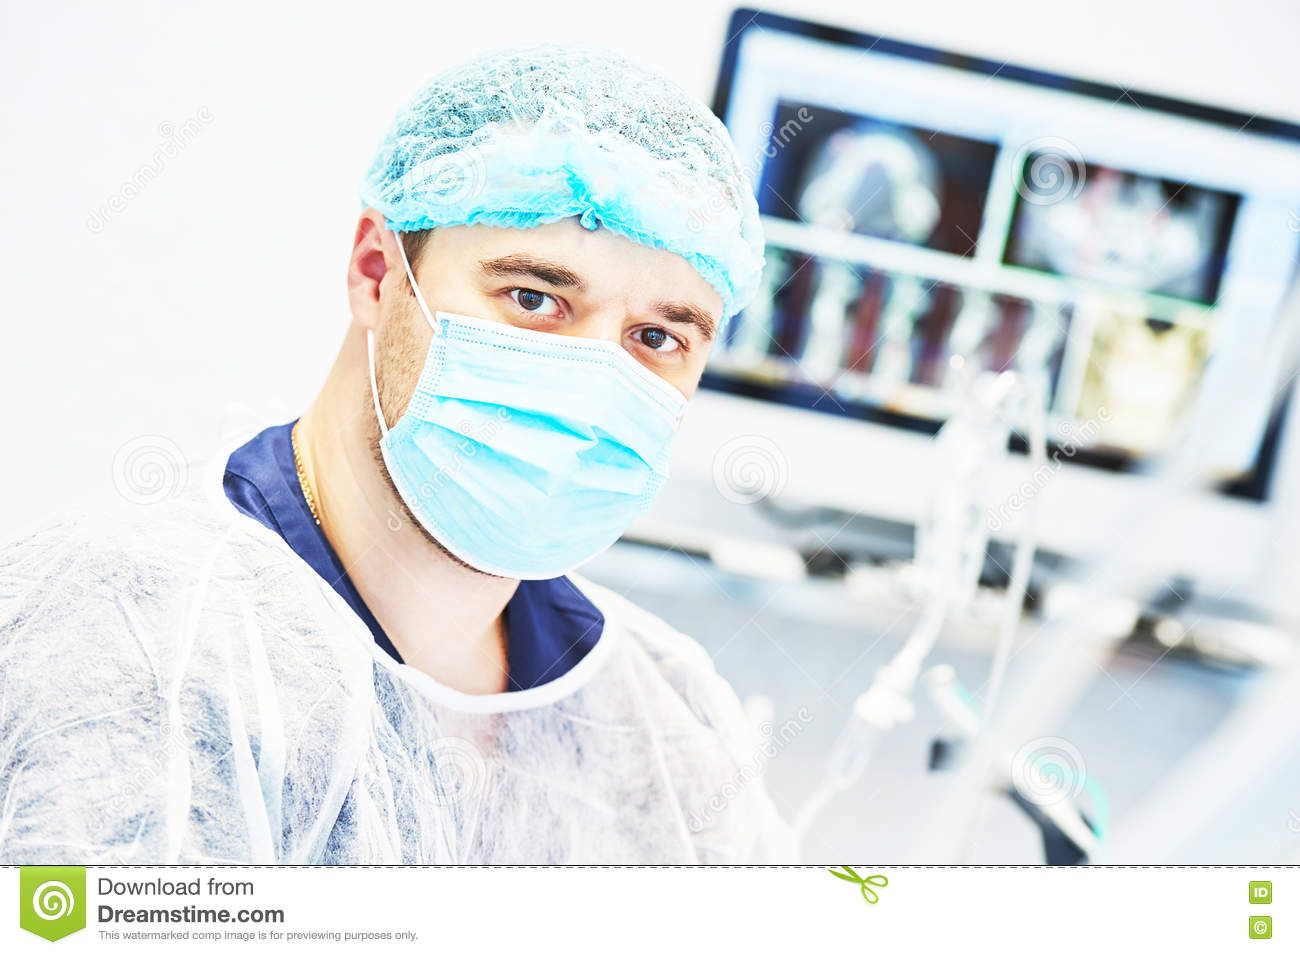mask: (401, 313, 697, 598)
